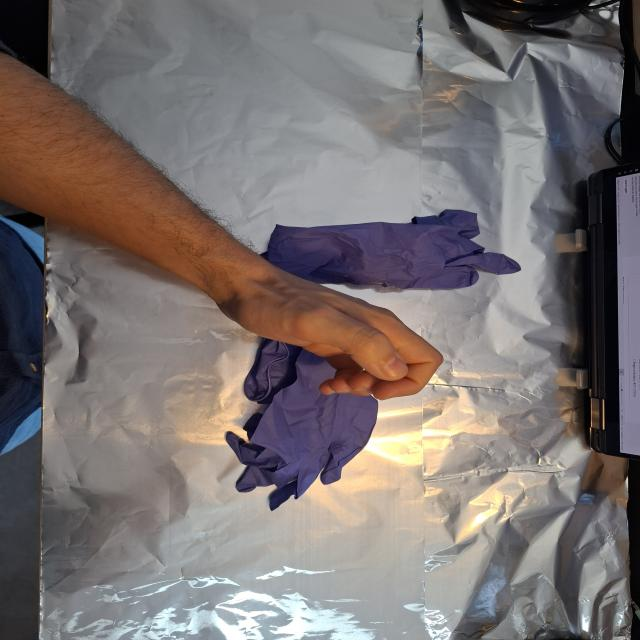glove_off: (211, 264, 447, 402)
